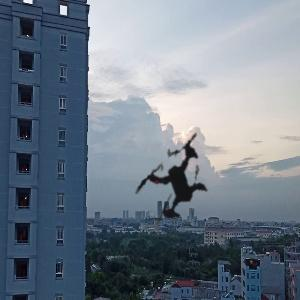drone: (103, 108, 250, 255)
